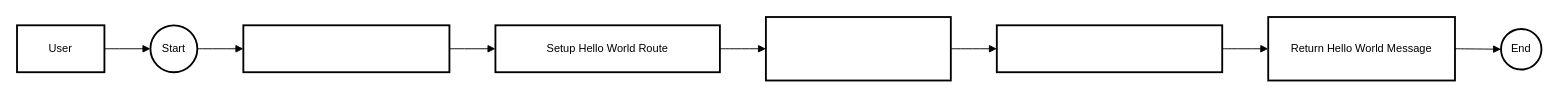
The diagram is 1558 pixels wide and 97 high, and some of its shapes have lost their labels. Each missing label, with the box of its shape:
Create Hello World Controller: (765, 16, 951, 81)
Create Laravel Project: (242, 24, 450, 73)
Define Hello World Logic: (995, 24, 1223, 73)
